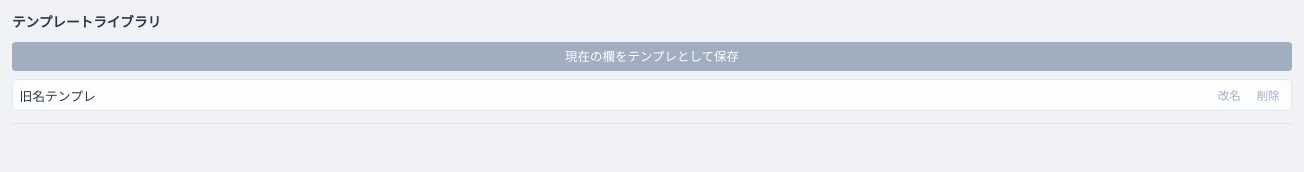
Test: TemplateLibraryPanel: 改名 › Escape で改名をキャンセルすると rename は呼ばれない
Click the button with aria-label "旧名テンプレ の名前を変更".
click(1229, 95)  # box [1213,85,1246,106]
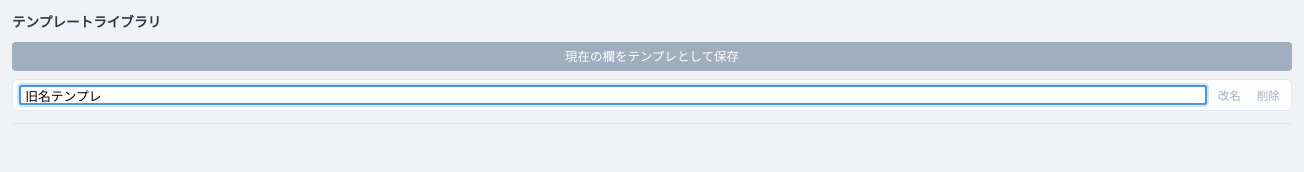
Replace the text in the field named "旧名テンプレ の名前を編集" with "変更後" at (613, 95), box [19,85,1207,105]
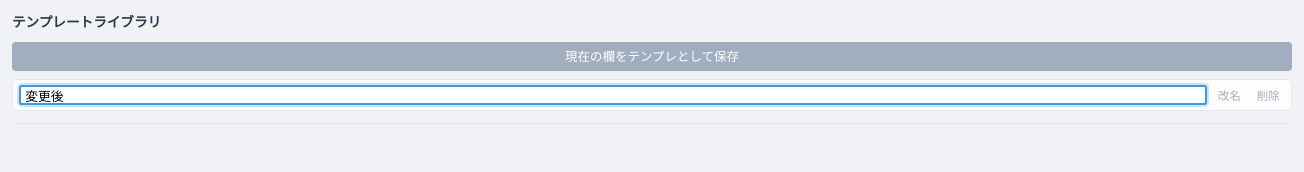
Press Escape in the field named "旧名テンプレ の名前を編集", box [19,85,1207,105]
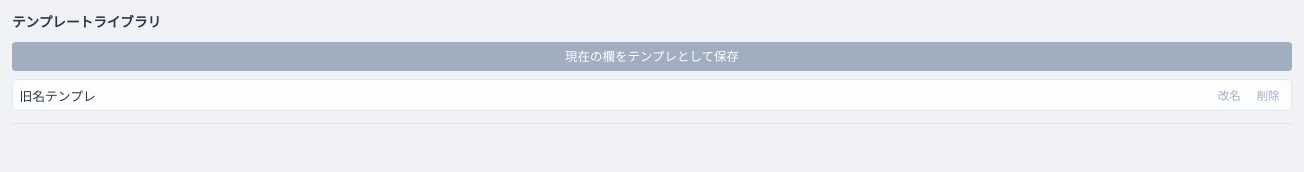
expect the field is gone: met
